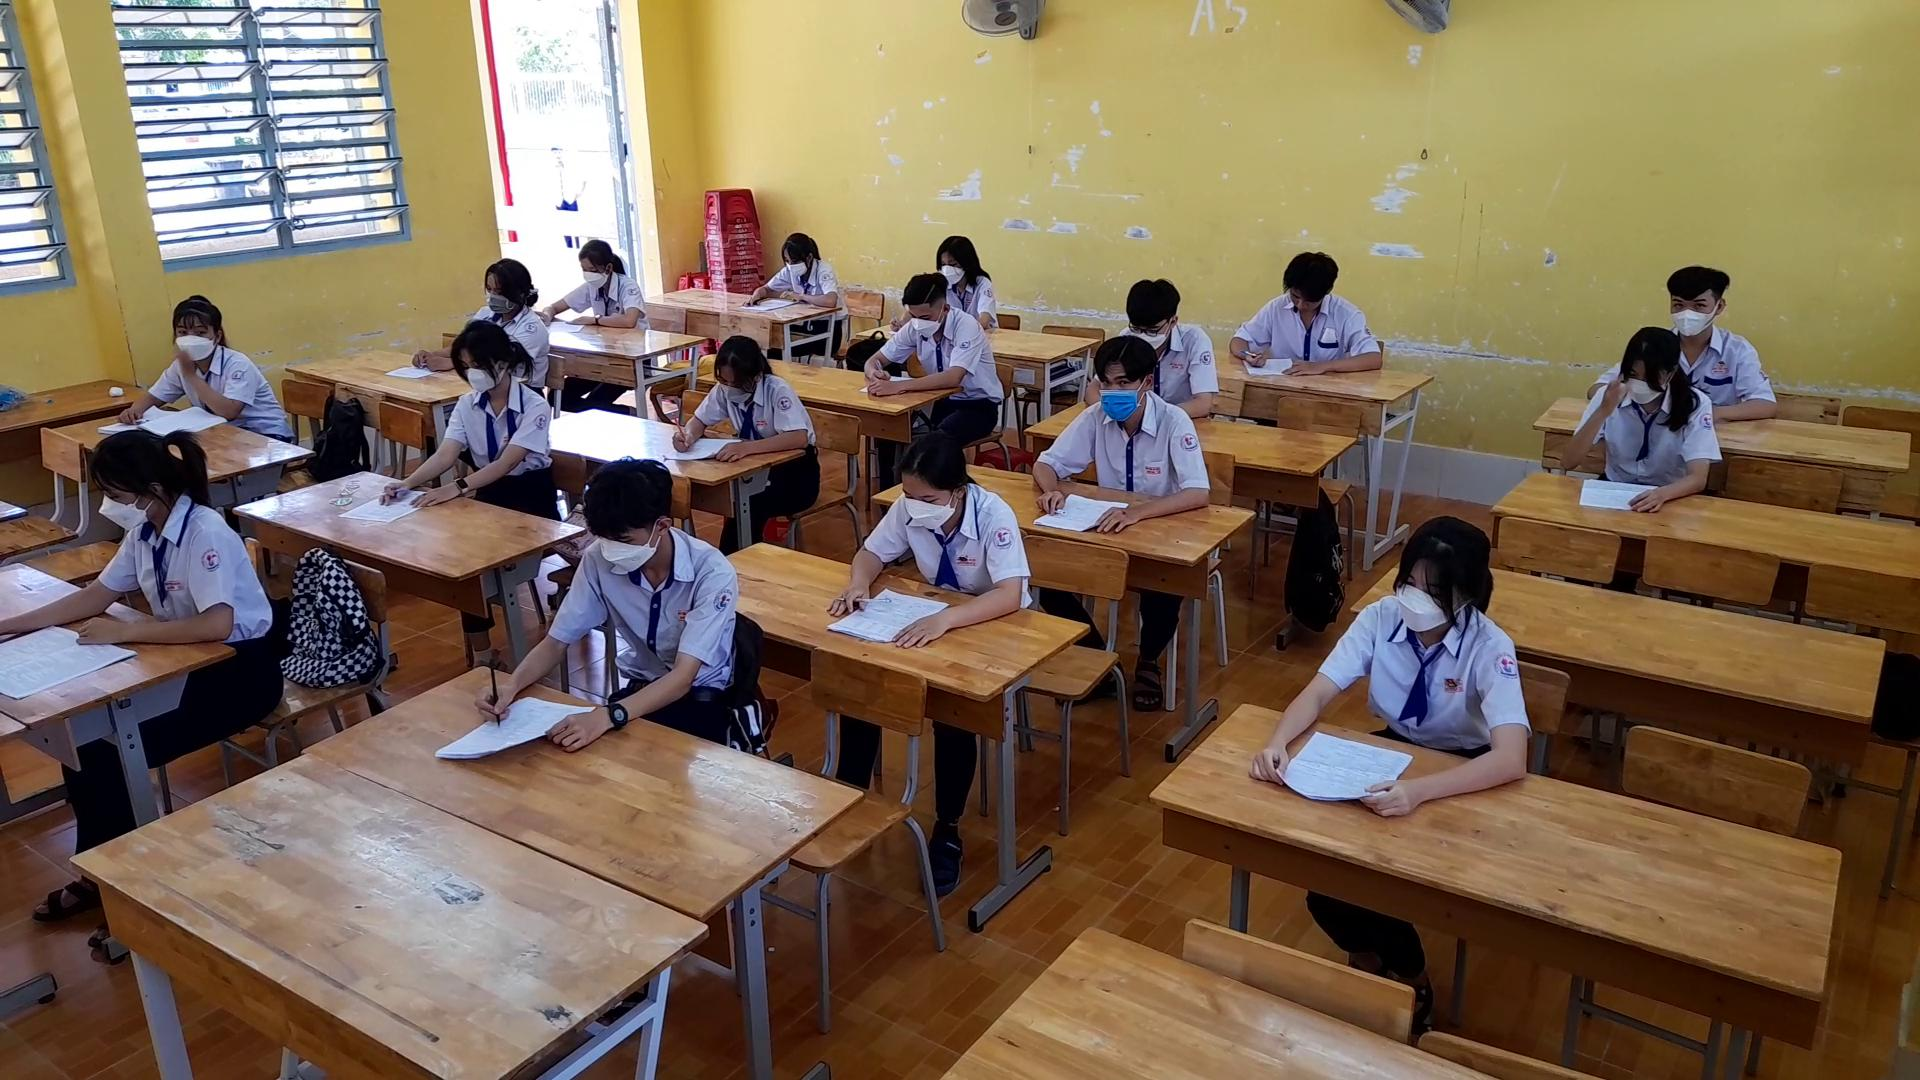Look Around: (154, 285, 256, 368)
Normal: (455, 448, 754, 760), (1250, 506, 1542, 820), (28, 414, 286, 655), (811, 421, 1036, 647), (1023, 330, 1220, 545), (372, 313, 556, 516), (655, 324, 822, 469), (839, 260, 1004, 404), (1221, 239, 1379, 388), (742, 208, 847, 326), (551, 218, 654, 336), (1663, 249, 1741, 340)
Wave: (171, 338, 257, 422), (1553, 364, 1617, 477)
